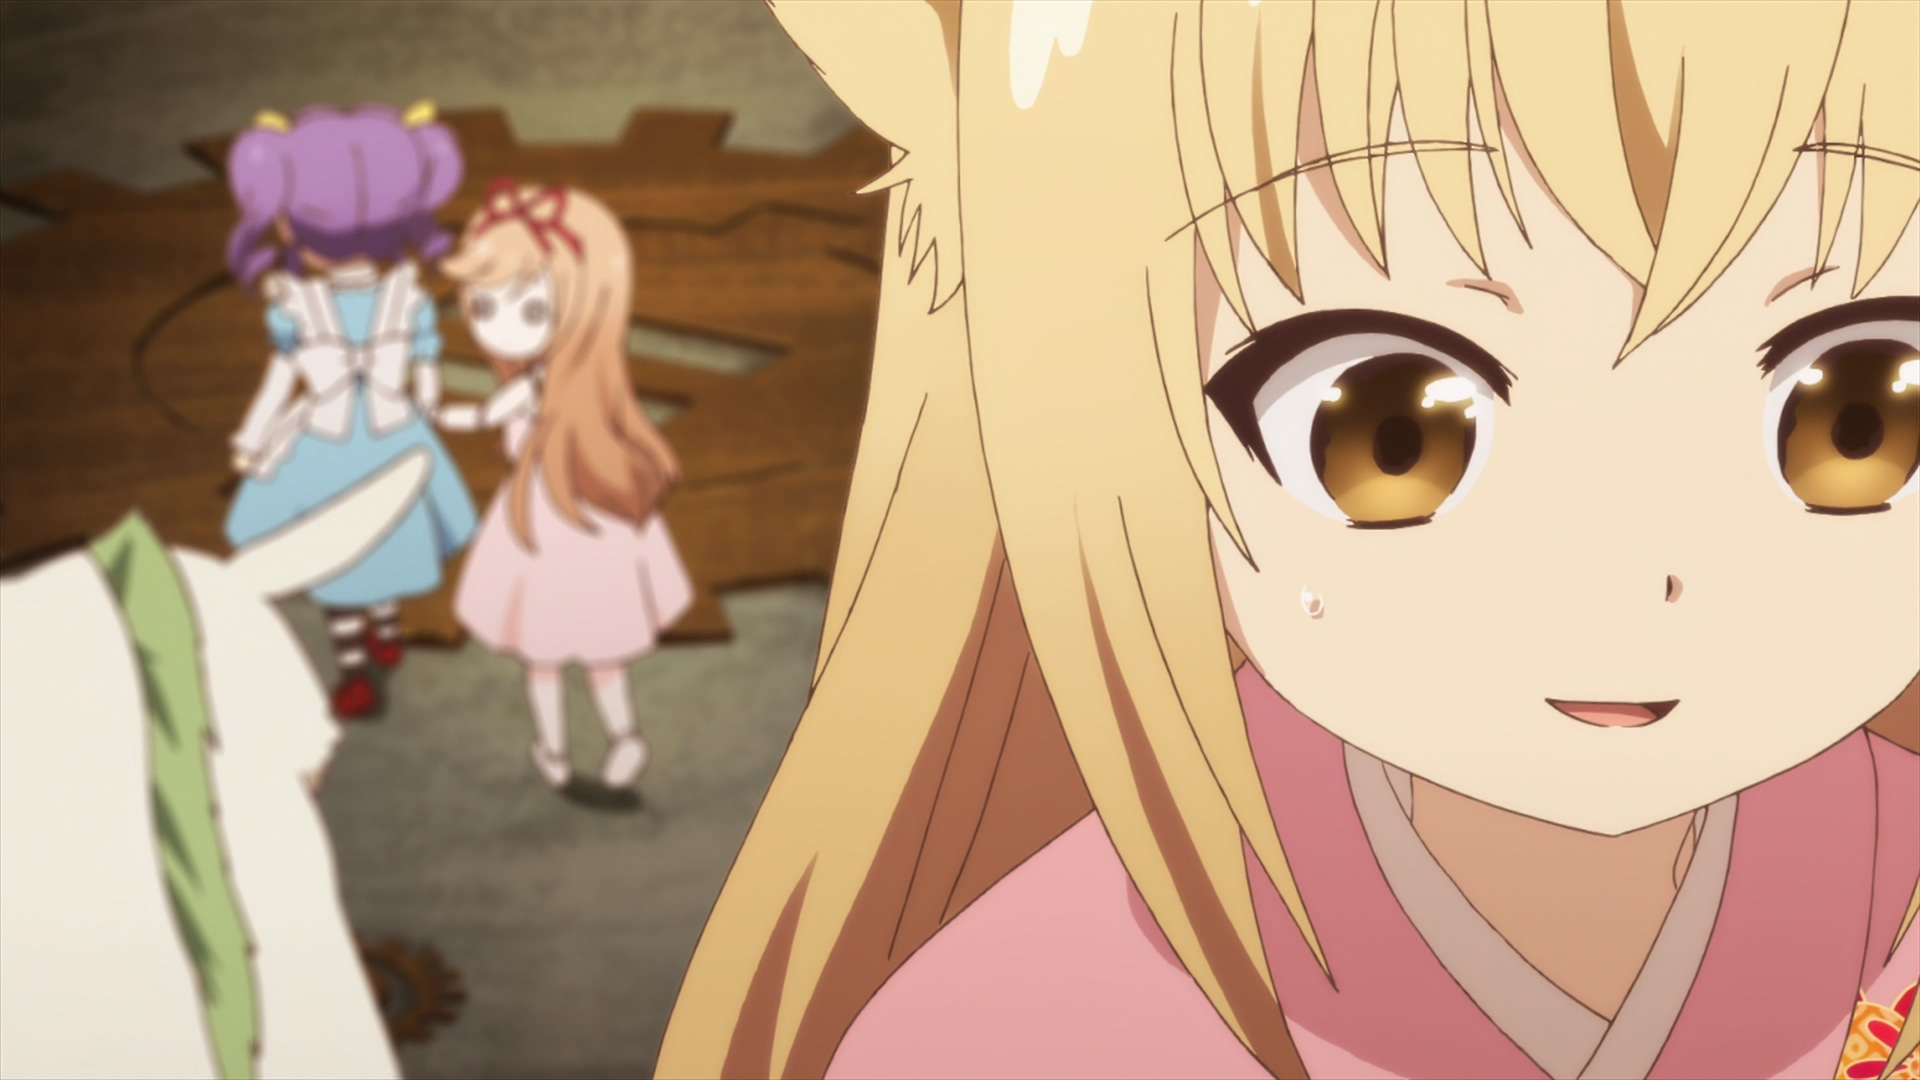其他: (431, 178, 698, 793)
柚: (651, 1, 1920, 1080)
瓜之介: (1, 448, 434, 1080)
阿菊: (224, 102, 476, 723)
